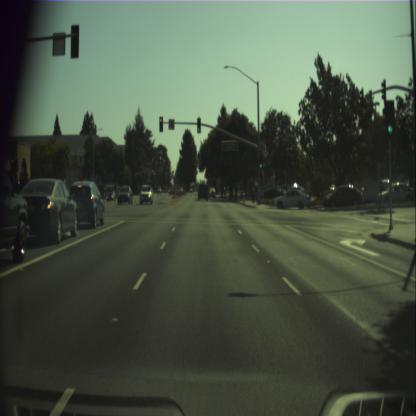Green: (385, 100, 394, 138), (197, 116, 201, 132), (258, 154, 262, 170)
RedLeft: (10, 157, 14, 174), (159, 116, 163, 131)
